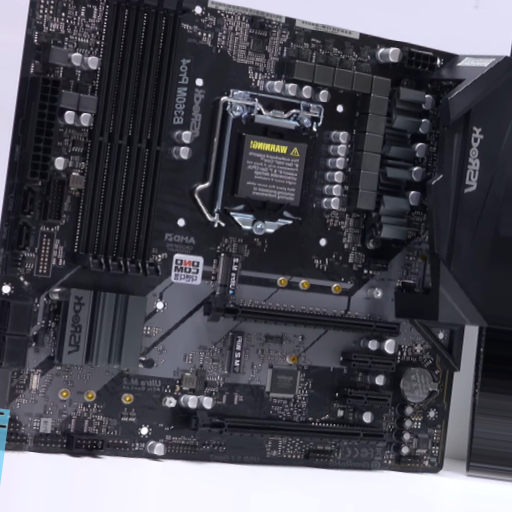CPU: (215, 89, 324, 233)
GPU: (205, 294, 402, 338), (191, 411, 387, 443)
MOTHERBOARD: (2, 1, 444, 473)
RAM: (76, 1, 196, 278)
SSD: (215, 253, 244, 299), (224, 331, 244, 374)
